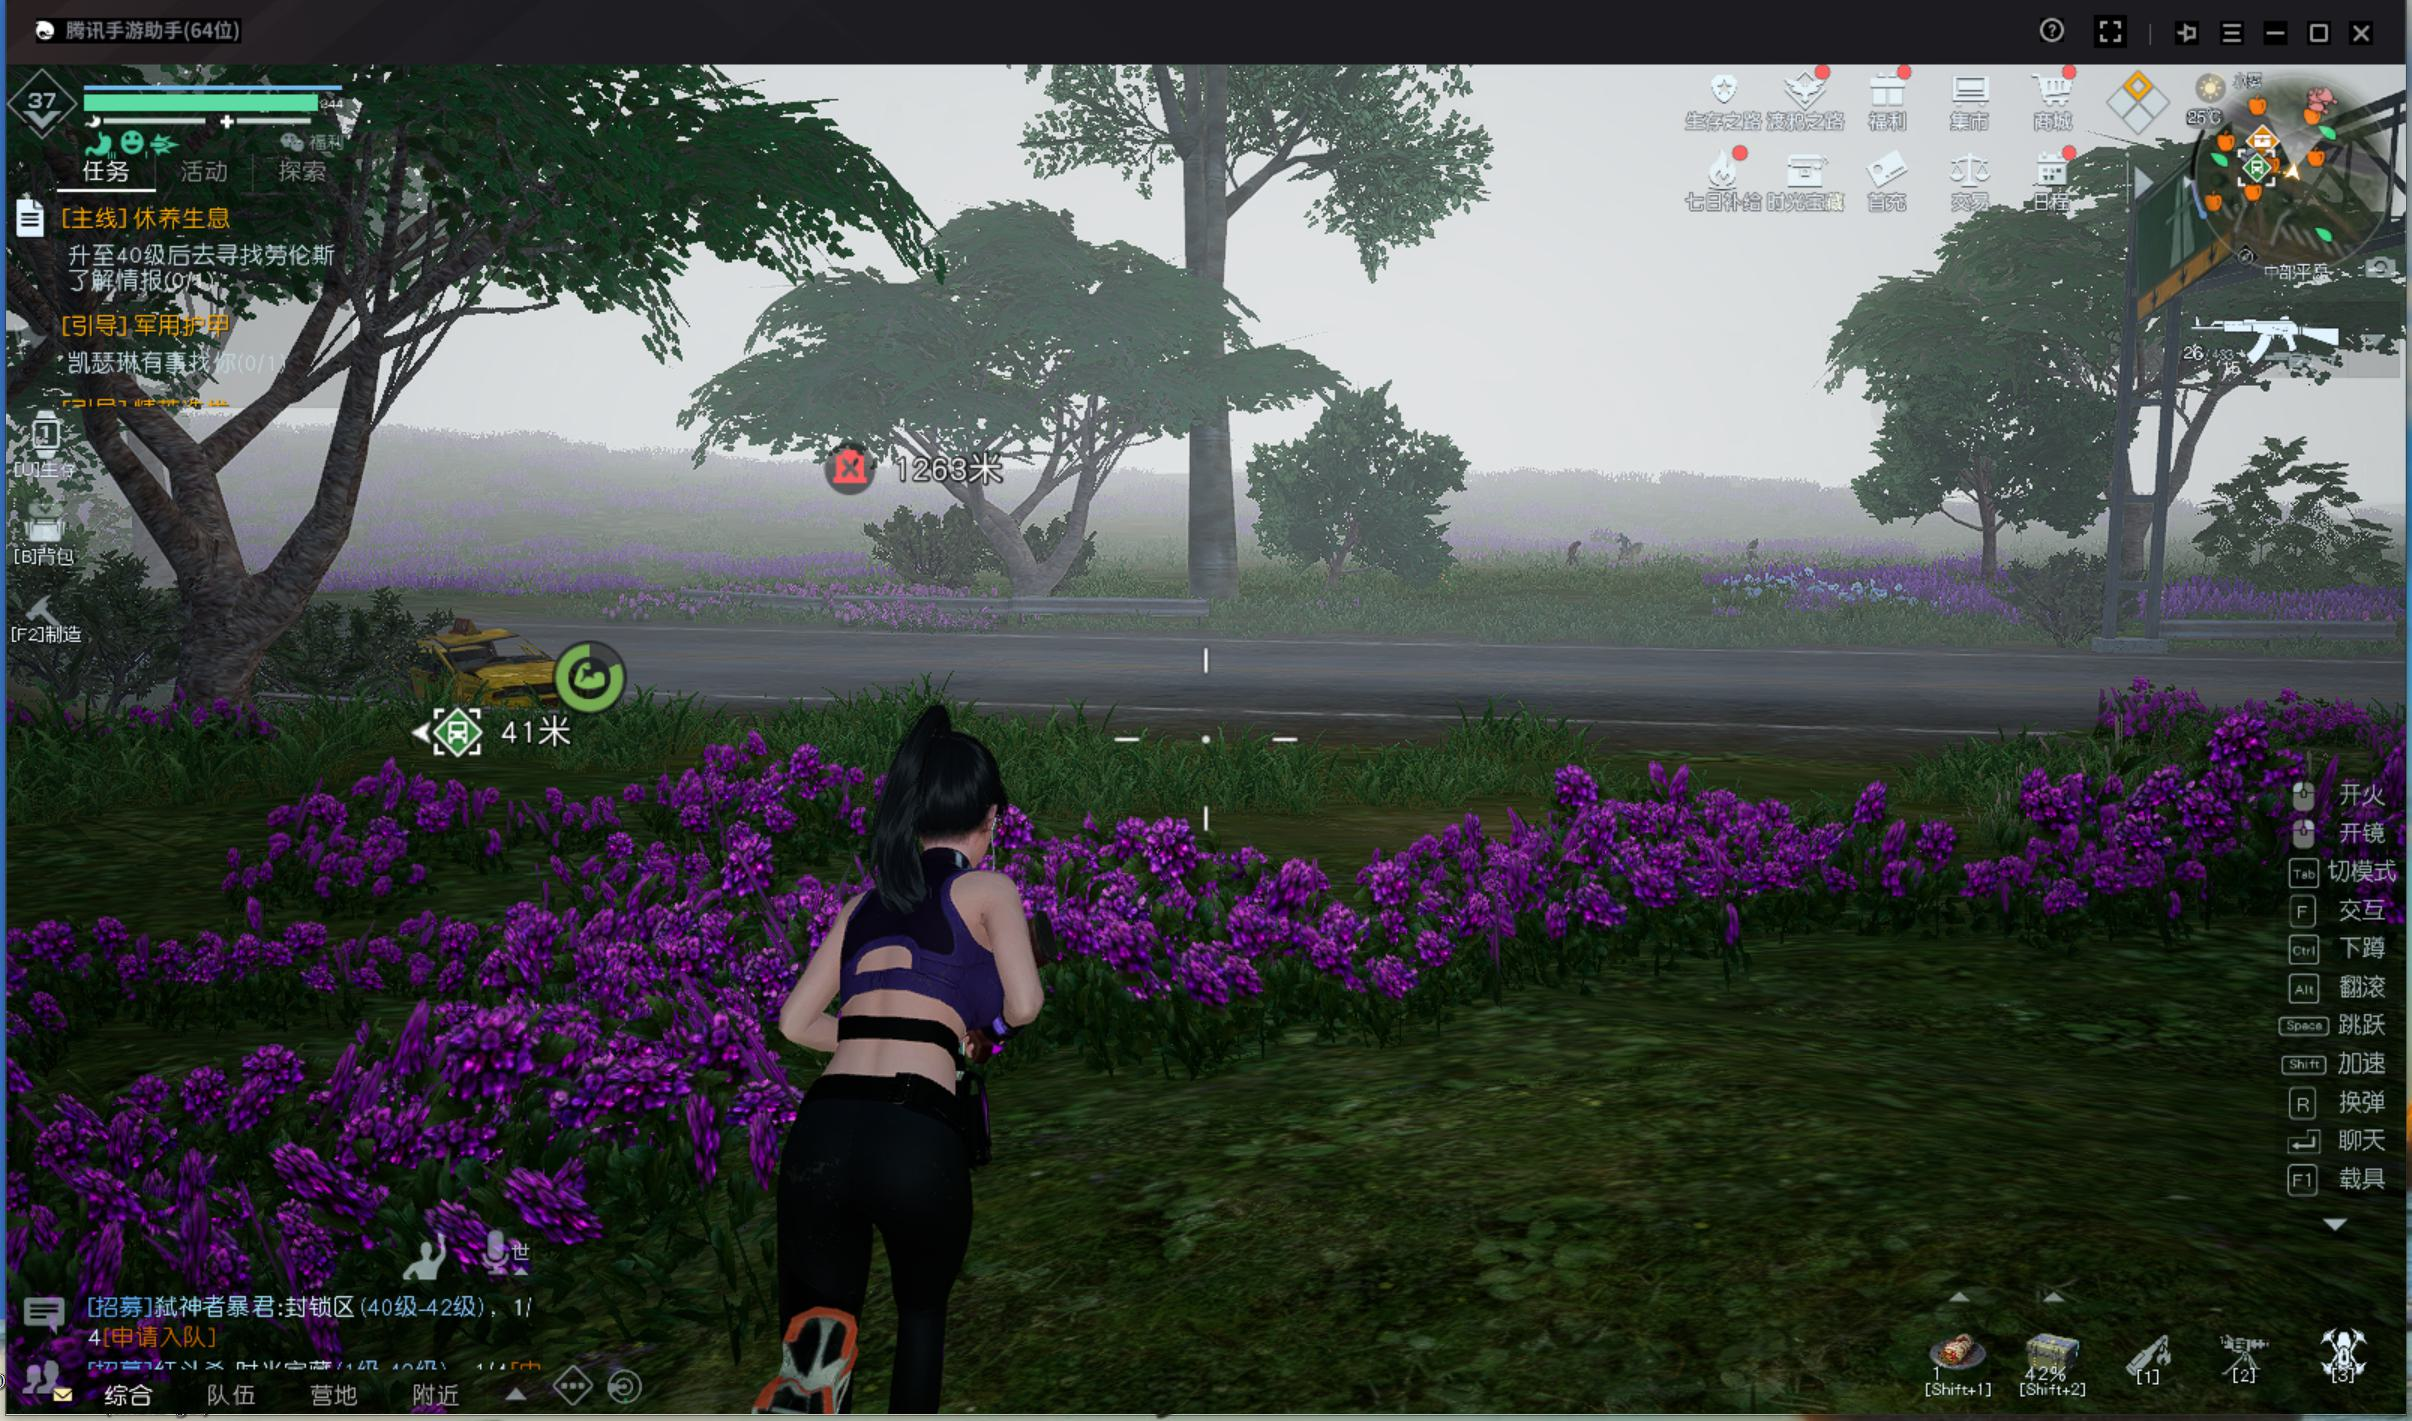tree: (1169, 218, 1253, 597), (2094, 479, 2168, 604), (1950, 479, 2013, 584)
